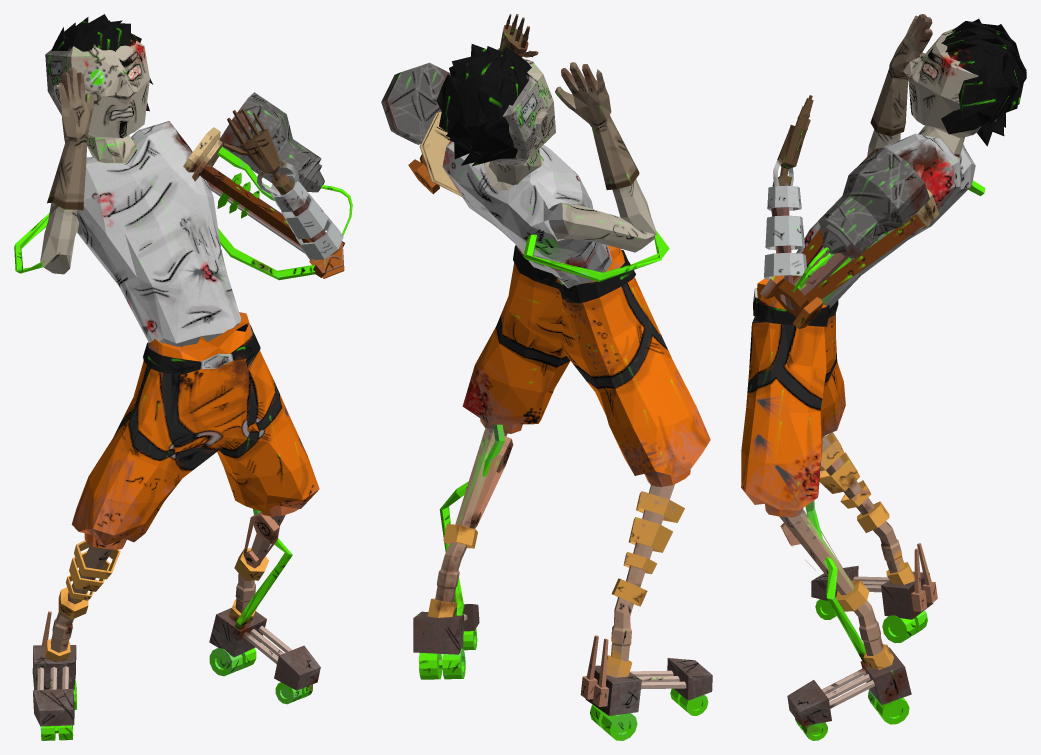
The model's file is CyborgFINALAnimation_000013.obj.
3 renders of one model, left to right at view 1: azimuth 30°, elevation 25°; view 2: azimuth 150°, elevation 25°; view 3: azimuth 270°, elevation 25°, orthographic. The views are drawn at different scales.
Visible parts, largest first — view 1: CyborgMesh_Cube.002; view 2: CyborgMesh_Cube.002; view 3: CyborgMesh_Cube.002.
Boxes of the visible parts, x1,y1,x2,y2 form: CyborgMesh_Cube.002: [14, 14, 352, 740]; CyborgMesh_Cube.002: [381, 14, 712, 740]; CyborgMesh_Cube.002: [741, 14, 1026, 740].
Bounding box in the file's own units: 4.27 × 8.78 × 3.47.
